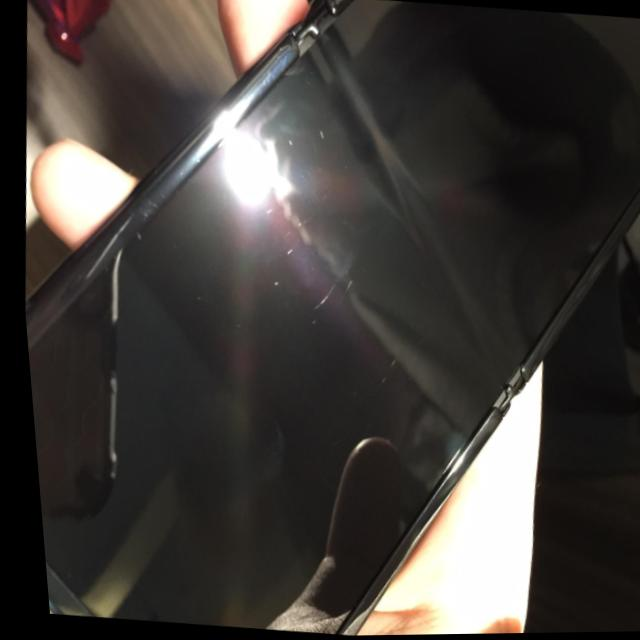scratch: (290, 257, 371, 335)
